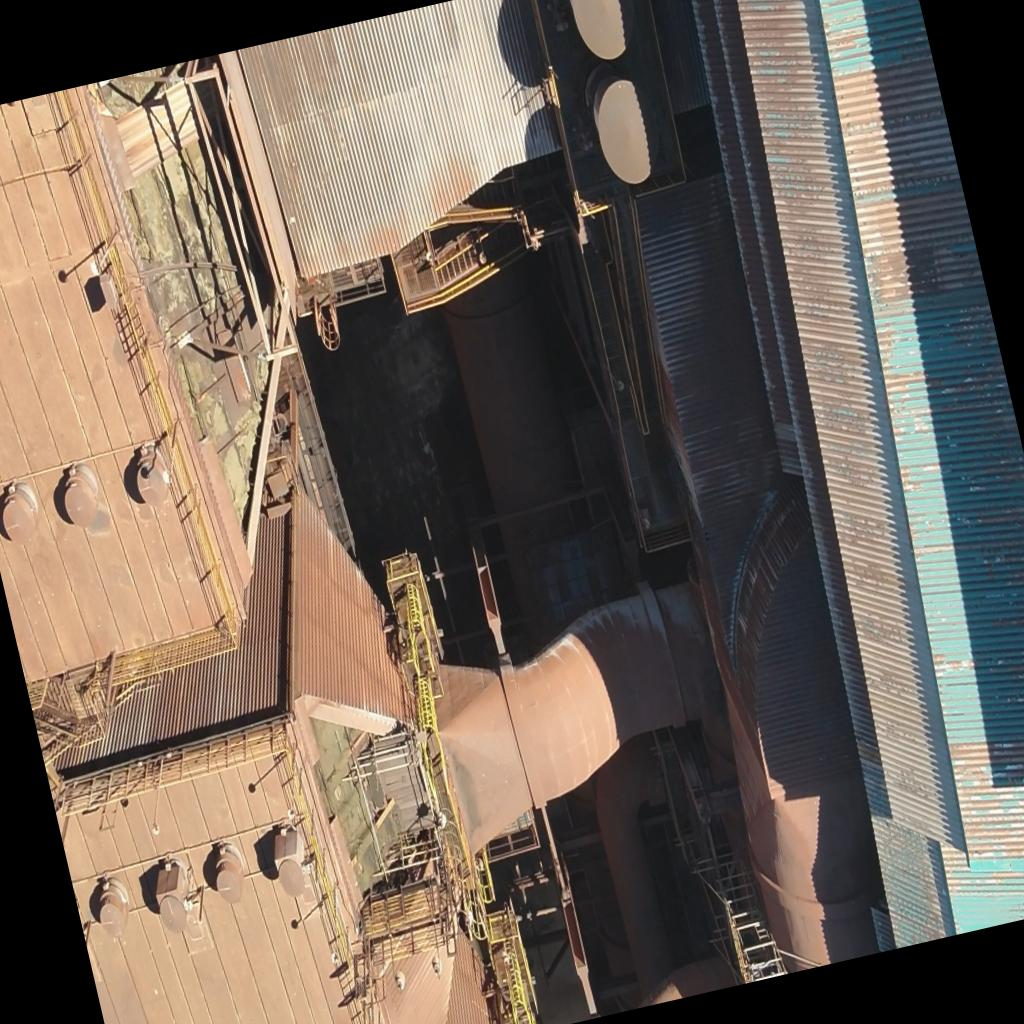Failures: (110, 148, 310, 538), (311, 719, 424, 920)
